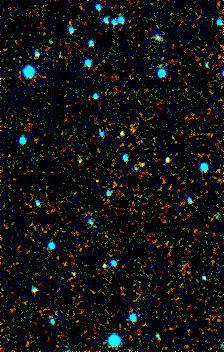star: (108, 119, 138, 149)
